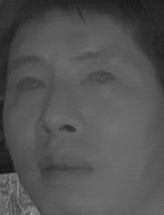eye: (76, 66, 118, 91), (12, 74, 47, 96)
mouth: (35, 149, 92, 190)
